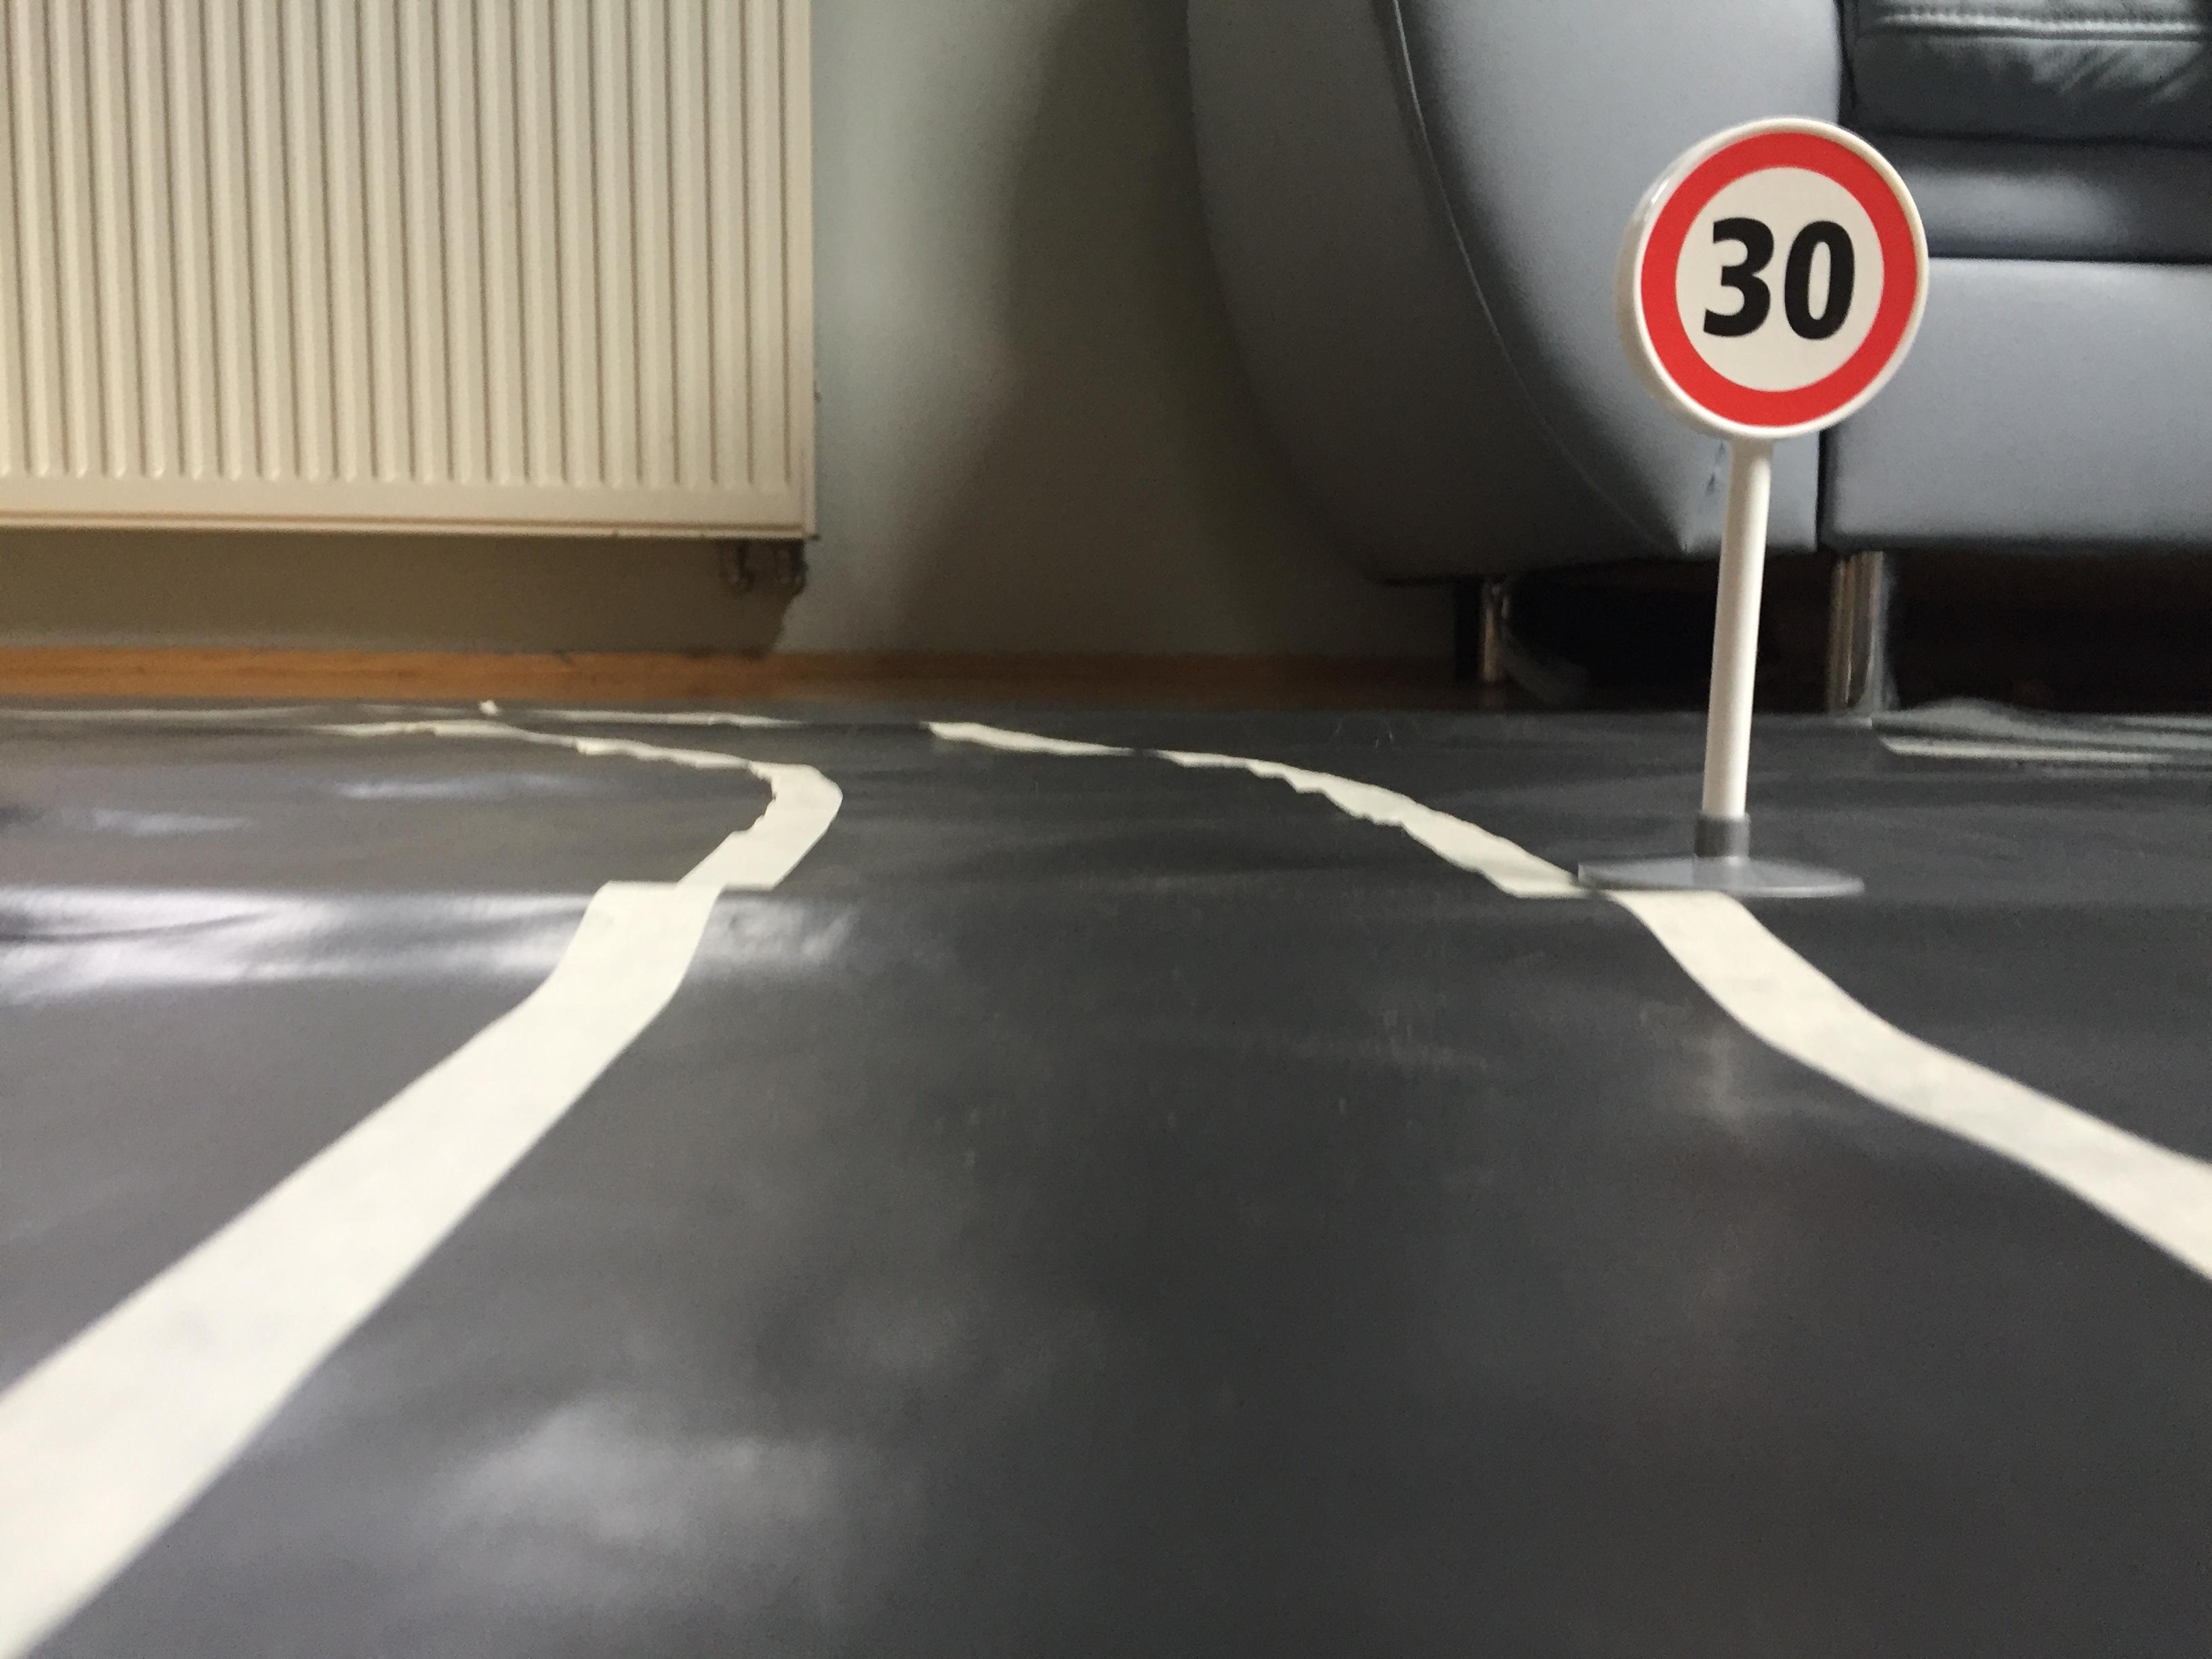speed: (1602, 110, 1937, 448)
